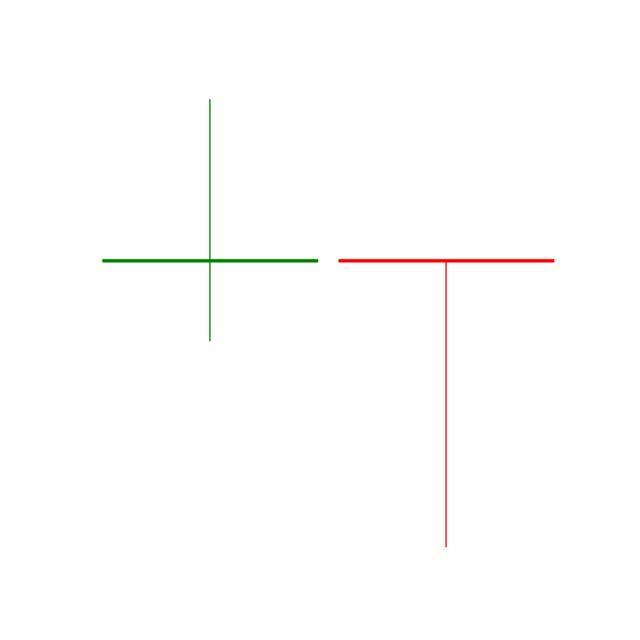Dragonfly Doji: (328, 256, 566, 552)
